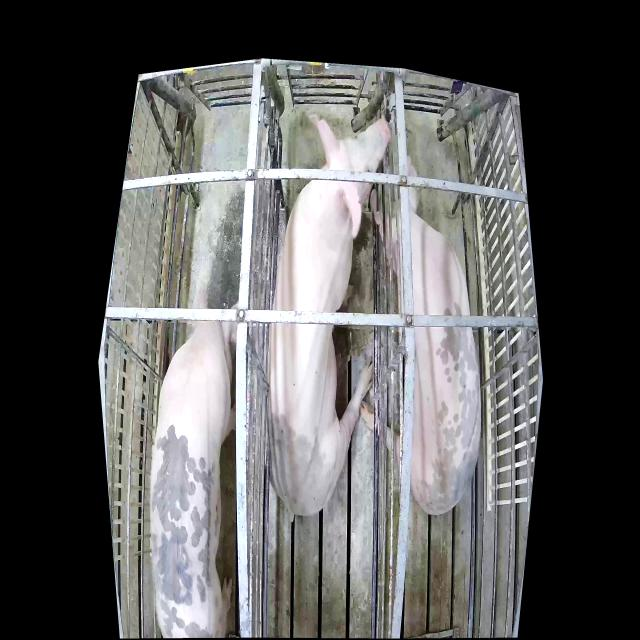pig: (269, 113, 391, 519), (360, 156, 482, 519), (150, 287, 239, 637)
